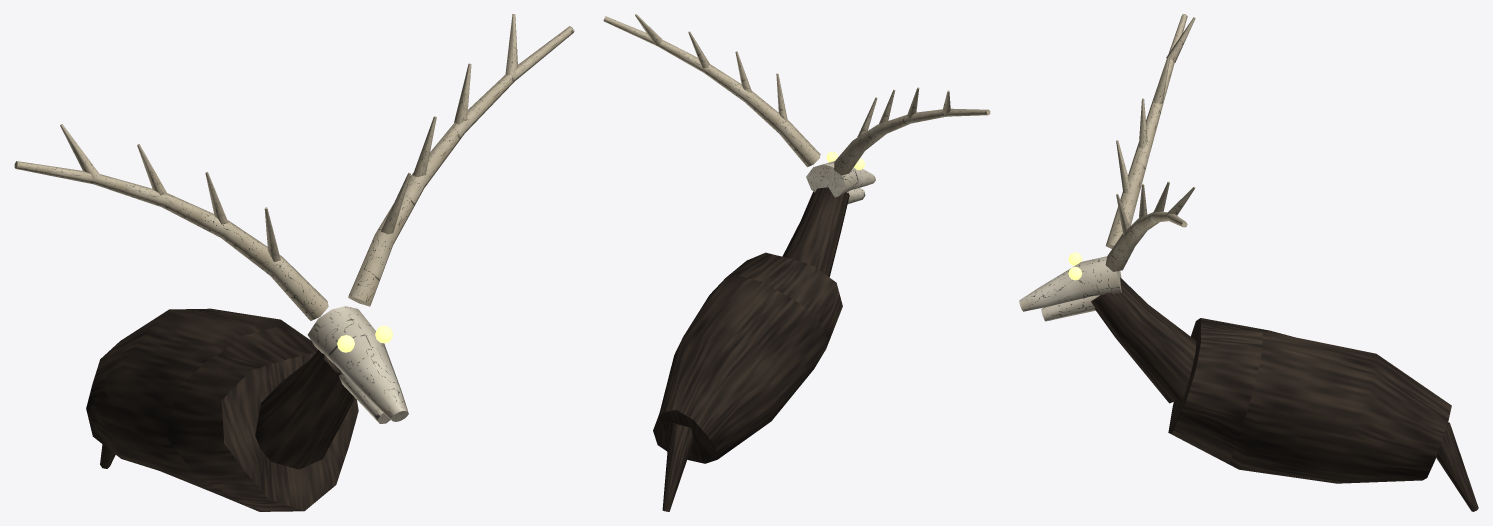
Rendered from deer_body.glb.
The picture shows the model from 3 angles, left to right: view 1: azimuth 30°, elevation 25°; view 2: azimuth 150°, elevation 25°; view 3: azimuth 270°, elevation 25°; orthographic projection. The views are drawn at different scales.
Visible parts, largest first — view 1: deer_body; view 2: deer_body; view 3: deer_body.
Part boxes in pixels (x1=…): deer_body: x1=14, y1=14, x2=574, y2=511; deer_body: x1=603, y1=14, x2=990, y2=511; deer_body: x1=1019, y1=14, x2=1478, y2=511.
Bounding box in the file's own units: 2.49 × 2.27 × 2.31.
Materials: 7 (6 with a texture image).
